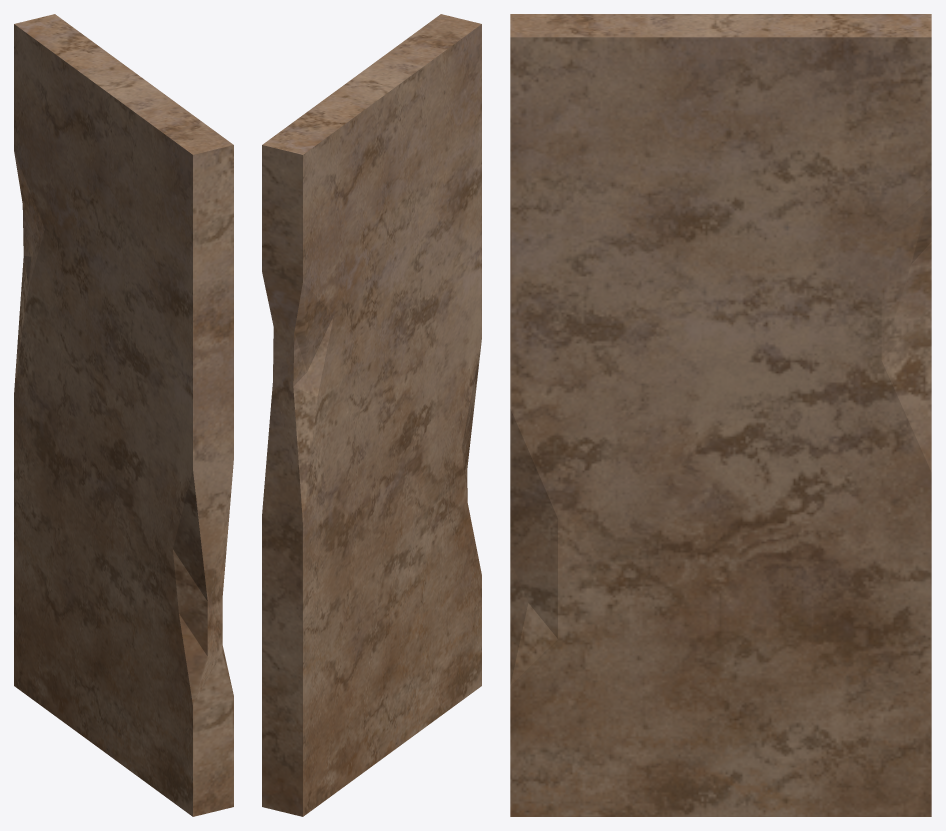
File: Temple Door4.fbx
3 views of the same model, side by side, from view 1: azimuth 30°, elevation 25°; view 2: azimuth 150°, elevation 25°; view 3: azimuth 270°, elevation 25° (orthographic). The views are drawn at different scales.
Parts seen in each view (by area): view 1: Porta 1.003; view 2: Porta 1.003; view 3: Porta 1.003.
Part boxes in pixels (<box>): Porta 1.003: <box>14,14,233,816</box>; Porta 1.003: <box>262,14,481,816</box>; Porta 1.003: <box>510,14,931,816</box>.
Bounding box in the file's own units: 40.51 × 627 × 307.
Materials: 1 (1 with a texture image).
